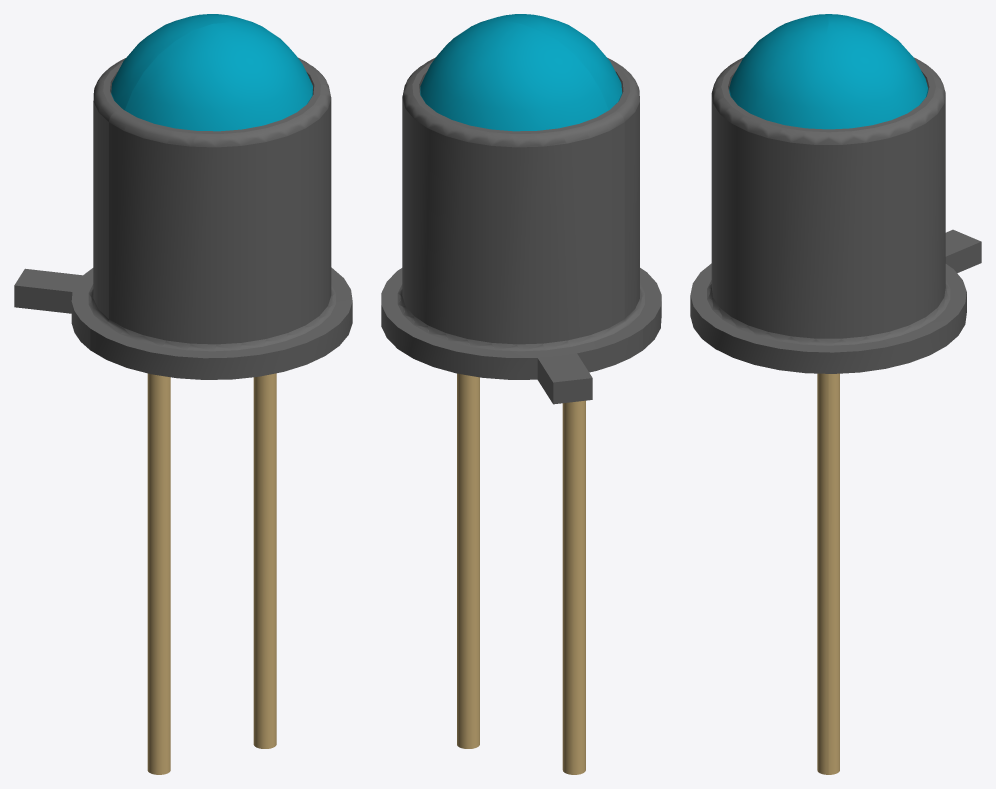
Rendered from kc-to-18-2_lens.glb.
The picture shows the model from 3 angles, left to right: view 1: azimuth 30°, elevation 25°; view 2: azimuth 150°, elevation 25°; view 3: azimuth 270°, elevation 25°; orthographic projection.
Parts seen in each view (by area): view 1: 0.16666666666666666_0.16666666666666666_0.16666666666666666_, 0.75_0.5_0.25_0.9, 0_0.3333333333333333_0.5_0; view 2: 0.16666666666666666_0.16666666666666666_0.16666666666666666_, 0_0.3333333333333333_0.5_0, 0.75_0.5_0.25_0.9; view 3: 0.16666666666666666_0.16666666666666666_0.16666666666666666_, 0_0.3333333333333333_0.5_0, 0.75_0.5_0.25_0.9.
Part boxes in pixels (left/top/right/bottom): 0.16666666666666666_0.16666666666666666_0.16666666666666666_: left=14, top=57, right=352, bottom=379; 0.75_0.5_0.25_0.9: left=147, top=373, right=276, bottom=774; 0_0.3333333333333333_0.5_0: left=111, top=14, right=312, bottom=131; 0.16666666666666666_0.16666666666666666_0.16666666666666666_: left=381, top=57, right=661, bottom=404; 0_0.3333333333333333_0.5_0: left=420, top=14, right=622, bottom=131; 0.75_0.5_0.25_0.9: left=457, top=373, right=585, bottom=774; 0.16666666666666666_0.16666666666666666_0.16666666666666666_: left=690, top=57, right=981, bottom=373; 0_0.3333333333333333_0.5_0: left=729, top=14, right=928, bottom=129; 0.75_0.5_0.25_0.9: left=817, top=373, right=839, bottom=774.
Bounding box in the file's own units: 0.6147 × 1.68 × 0.6148.
